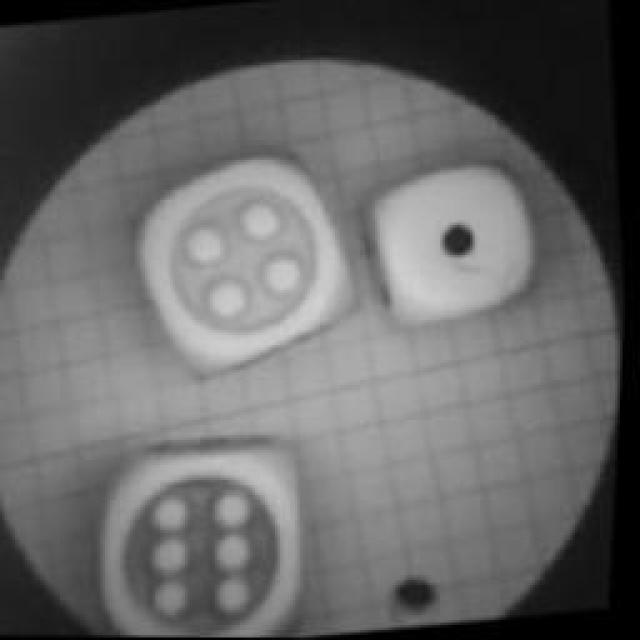dice_1: (351, 150, 554, 335)
dice_4: (112, 131, 372, 391)
dice_6: (76, 408, 352, 638)
